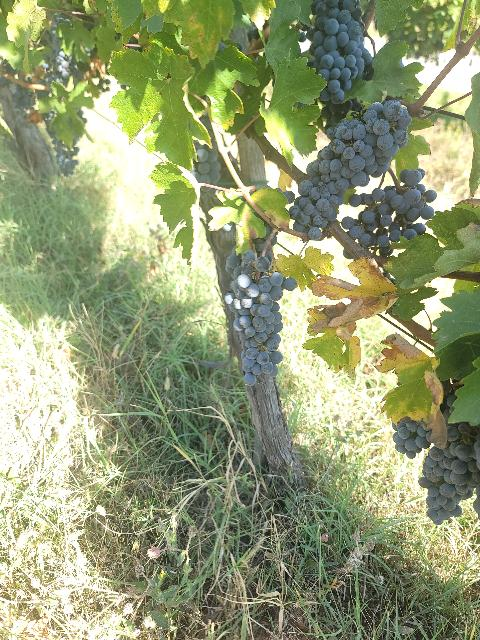grapes: (285, 100, 411, 240), (225, 250, 298, 386), (341, 169, 436, 258), (306, 0, 372, 104), (419, 422, 480, 525), (392, 418, 430, 459)
